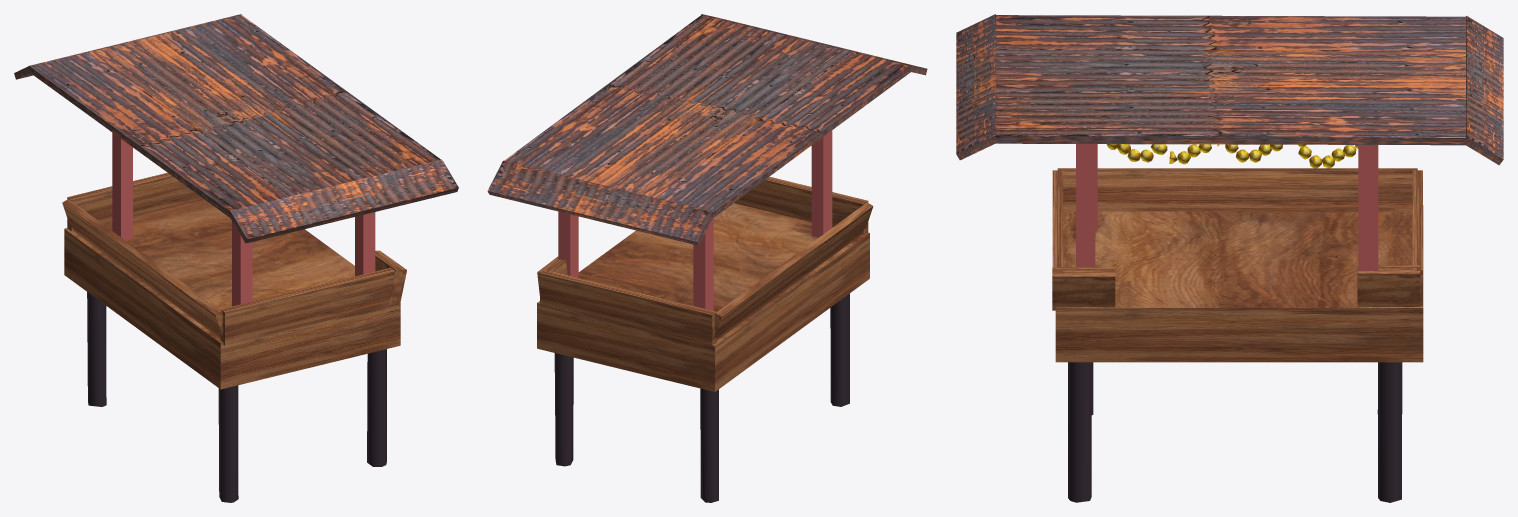
The model's file is thela_b.glb.
3 renders of one model, left to right at view 1: azimuth 30°, elevation 25°; view 2: azimuth 150°, elevation 25°; view 3: azimuth 270°, elevation 25°, orthographic. The views are drawn at different scales.
Visible parts, largest first — view 1: Object_8, Object_2, Object_6, Object_5, Object_7; view 2: Object_8, Object_2, Object_6, Object_5, Object_7; view 3: Object_8, Object_2, Object_6, Object_5, Object_7, Object_10, Object_9.
Boxes of the visible parts, box(x1,y1,x2,y2) form: Object_8: box(14, 14, 458, 243); Object_2: box(64, 199, 400, 389); Object_6: box(62, 172, 406, 345); Object_5: box(87, 292, 386, 502); Object_7: box(112, 133, 375, 306); Object_8: box(487, 14, 927, 245); Object_2: box(537, 203, 869, 391); Object_6: box(537, 176, 873, 345); Object_5: box(554, 293, 849, 502); Object_7: box(558, 130, 832, 310); Object_8: box(956, 14, 1503, 165); Object_2: box(1055, 205, 1423, 362); Object_6: box(1052, 168, 1422, 310); Object_5: box(1068, 362, 1402, 502); Object_7: box(1076, 144, 1378, 270); Object_10: box(1117, 144, 1344, 168); Object_9: box(1106, 144, 1356, 161).
Bounding box in the file's own units: 6.73 × 9.84 × 12.83.
6 materials, 4 textured.
